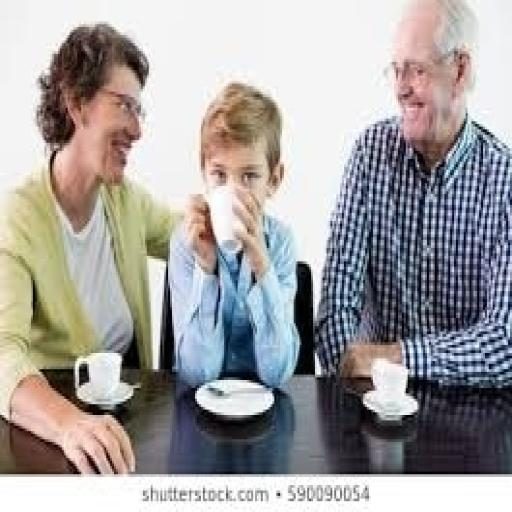drinking: (207, 48, 290, 256)
